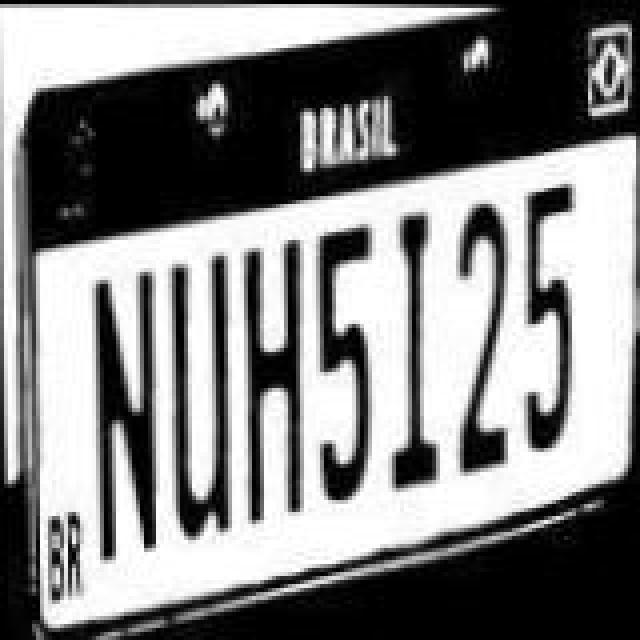2: (444, 178, 520, 462)
5: (310, 202, 382, 486), (520, 164, 588, 432)
H: (236, 220, 312, 508)
I: (380, 186, 448, 474)
N: (90, 256, 166, 564)
U: (162, 234, 238, 534)
